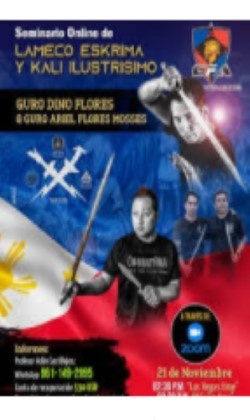baston_e: (68, 160, 119, 275)
baston_v: (105, 147, 120, 162)
